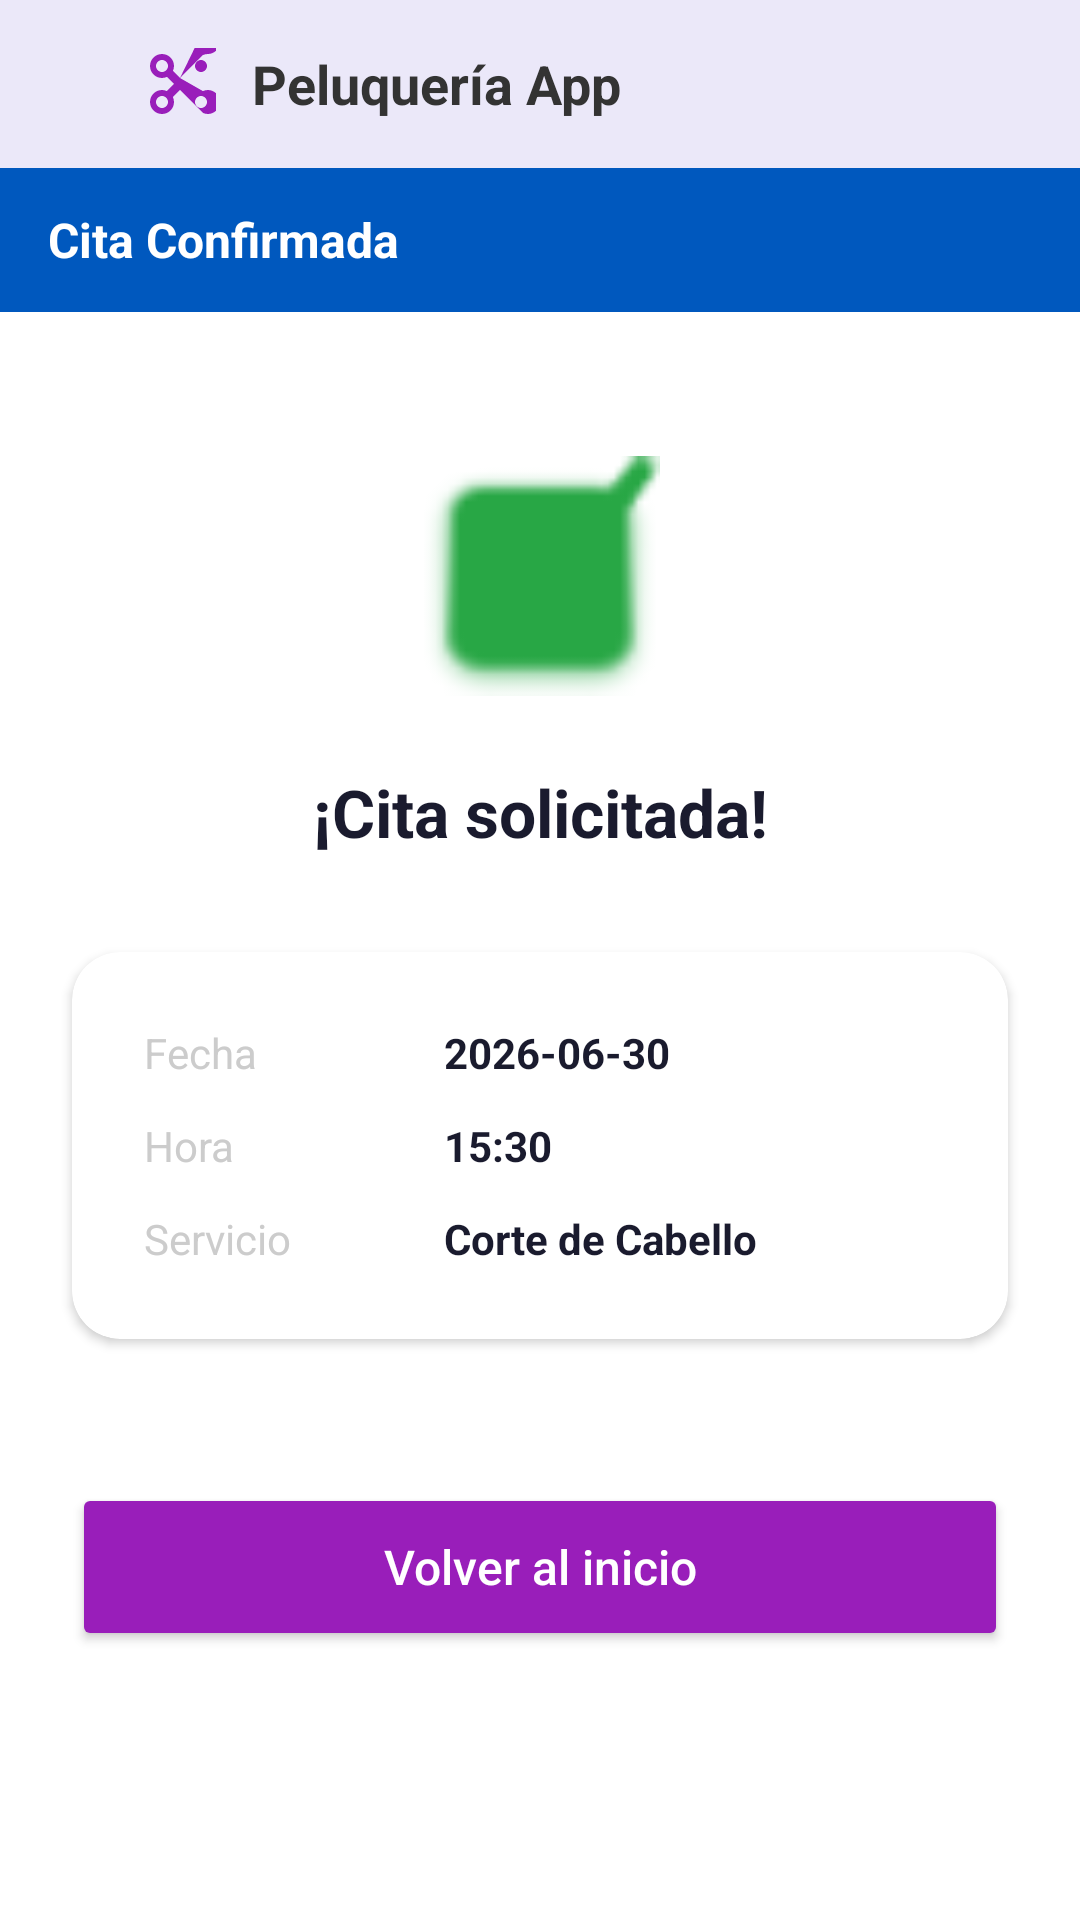

Icons on this 1080 x 1920 Android screen, each with its box as bbox=[x1, y1, x2, y2]:
content cut: bbox=[150, 48, 216, 114]
